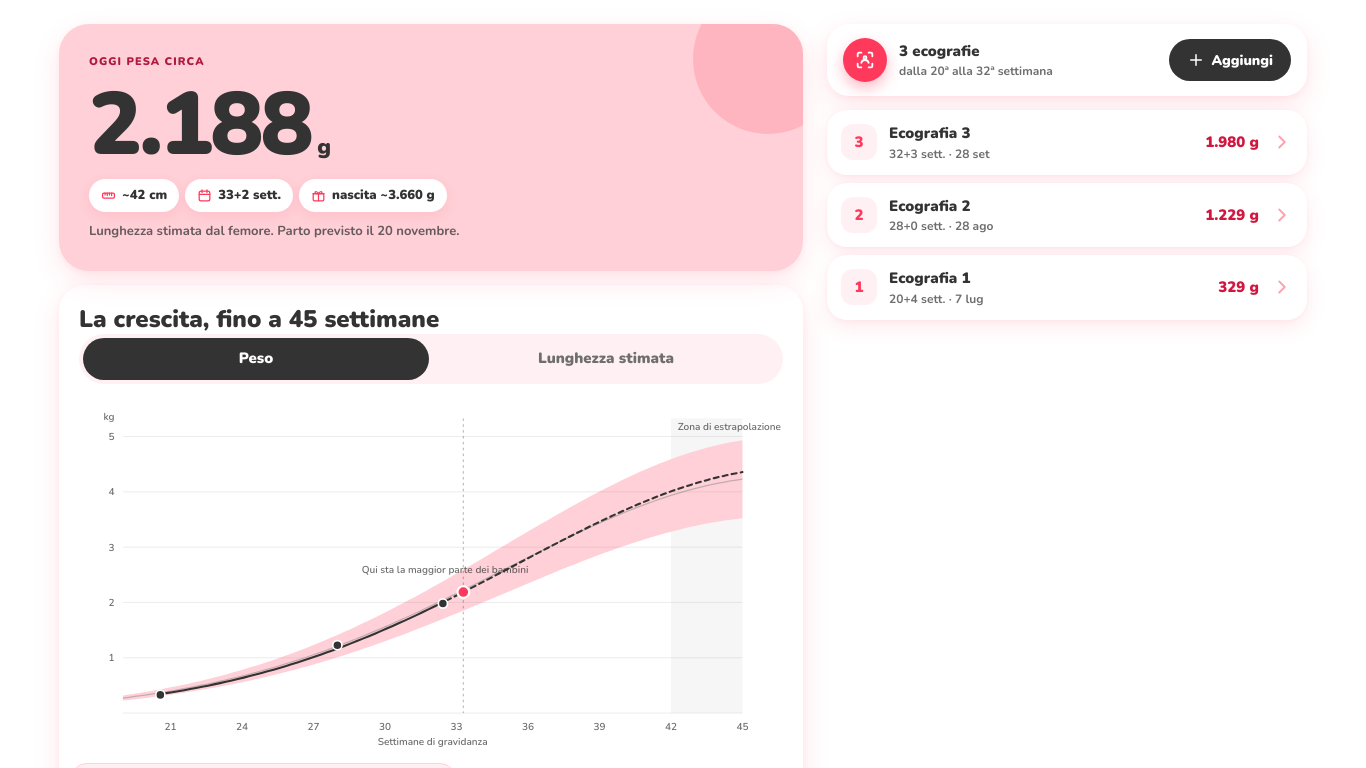
it: Robustezza visibile (0.9.3) › Crescita: una misura incoerente viene segnalata come esclusa
Click the button "3 Ecografia 3 32+3 sett. · 28 set 1.980 g": click(859, 142) [827,110,1307,174]
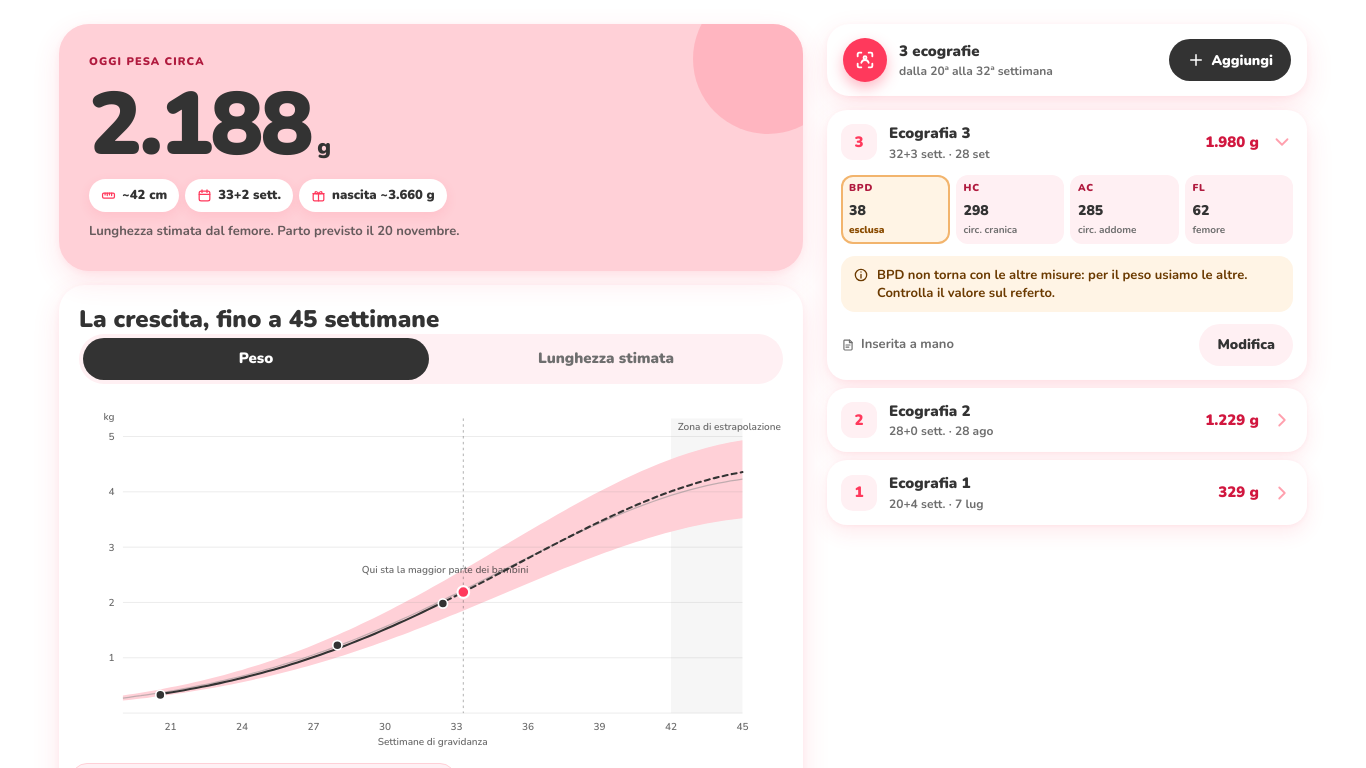
Expected: the text "esclusa" is shown, [849,222,884,236]
Expected: the text "BPD non torna con le altre misure" is shown, [877,266,1248,302]
